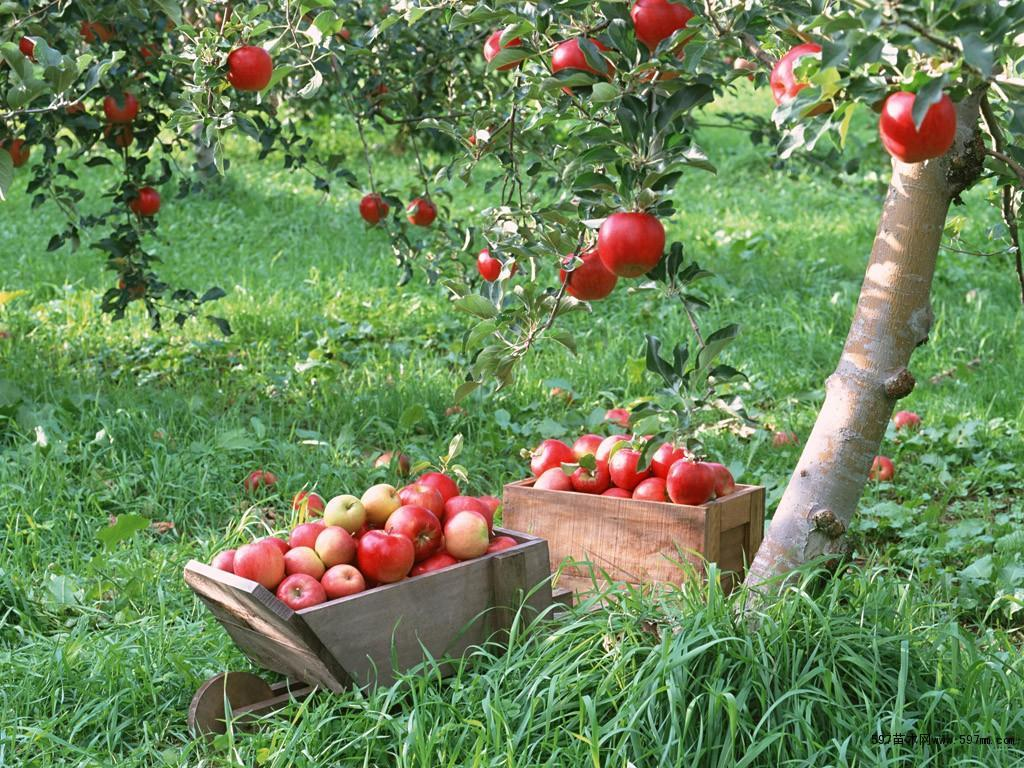apple: (877, 88, 956, 162), (769, 44, 840, 117), (594, 211, 663, 276), (628, 1, 693, 53), (557, 248, 618, 302), (385, 504, 440, 562), (357, 530, 414, 579), (548, 36, 610, 80), (232, 542, 285, 589), (665, 459, 717, 506), (442, 510, 489, 559), (225, 45, 271, 91), (276, 574, 326, 610), (609, 448, 651, 490), (313, 527, 358, 565), (323, 493, 367, 530), (484, 28, 521, 71), (361, 484, 400, 522), (531, 438, 572, 472), (399, 485, 444, 514), (284, 547, 326, 578), (572, 460, 608, 490), (128, 185, 160, 216), (475, 249, 502, 281)
